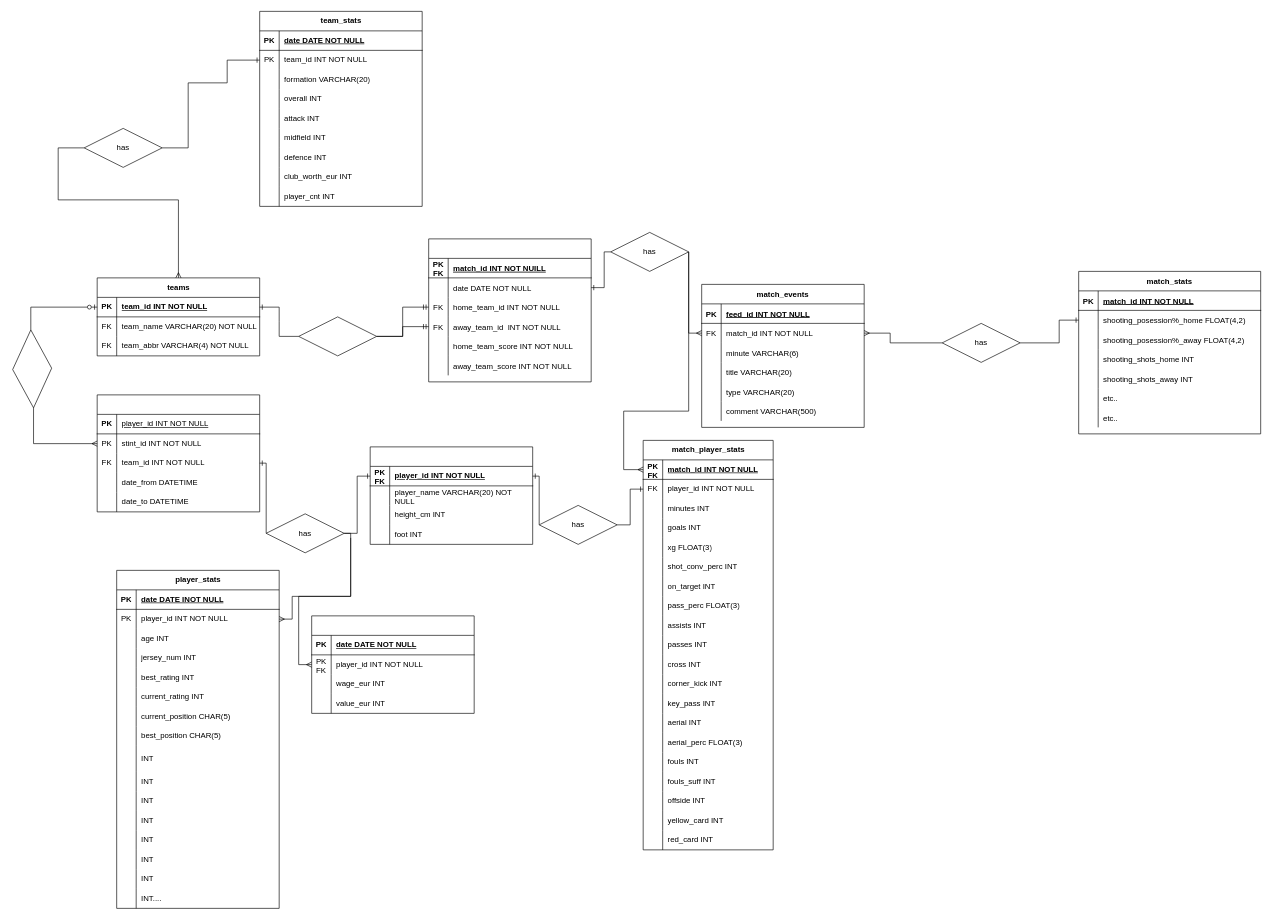
This 1273x920 diagram has some shape labels left out. The shapes that lost their labels are listed below. From the top down, each one's box as (x1, y1, x2, y2) in pixels, then its label:
(428, 238, 591, 382): matches
(298, 316, 377, 356): participates in
(11, 329, 53, 409): plays for
(97, 394, 260, 512): team_roster
(370, 446, 533, 544): players_general
(311, 615, 474, 713): player_finance
